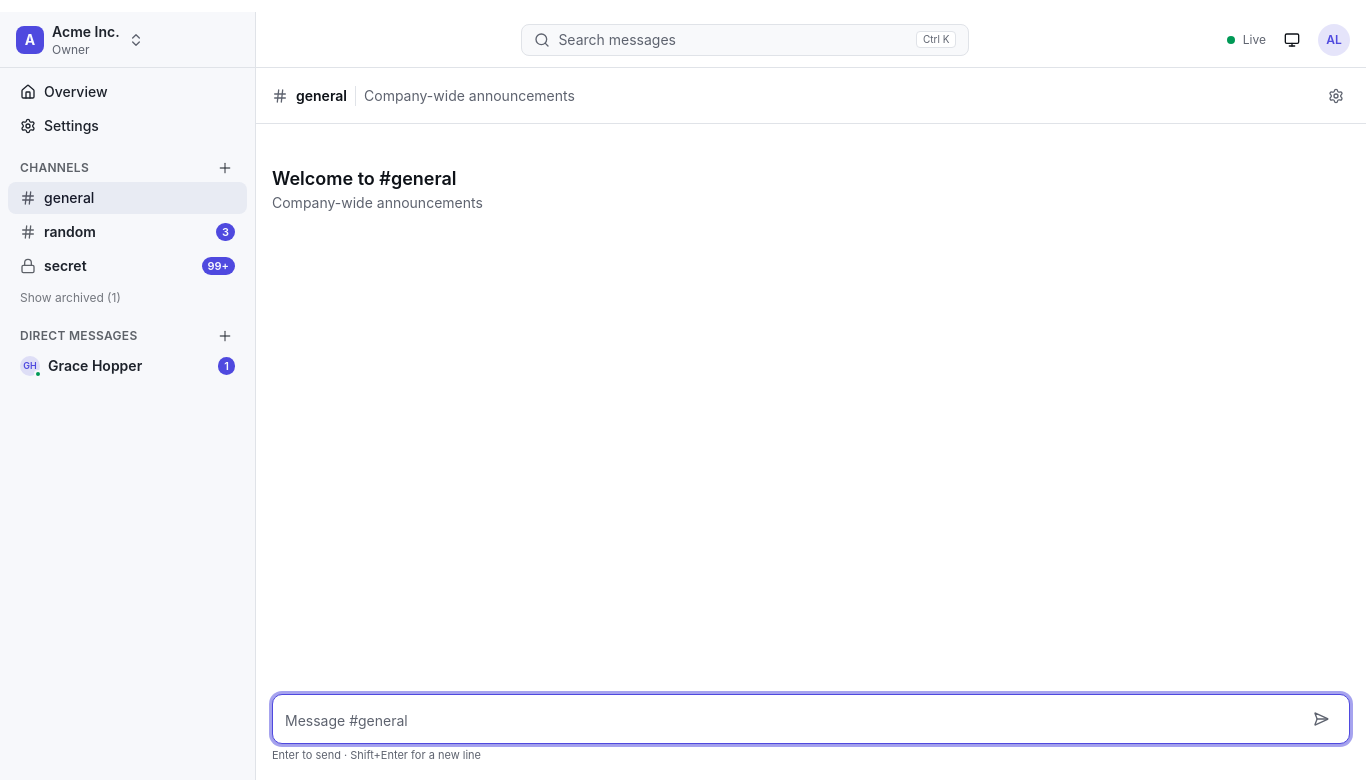
Test: chat navigation and sidebar › lists channels and DMs with private markers, capped unread badges and presence
Expected: the text "3" is shown, [216,223,235,241]
Expected: the text "99+" is shown, [202,257,235,275]
Click the link "random 3" at (70, 232), box [20,223,235,241]
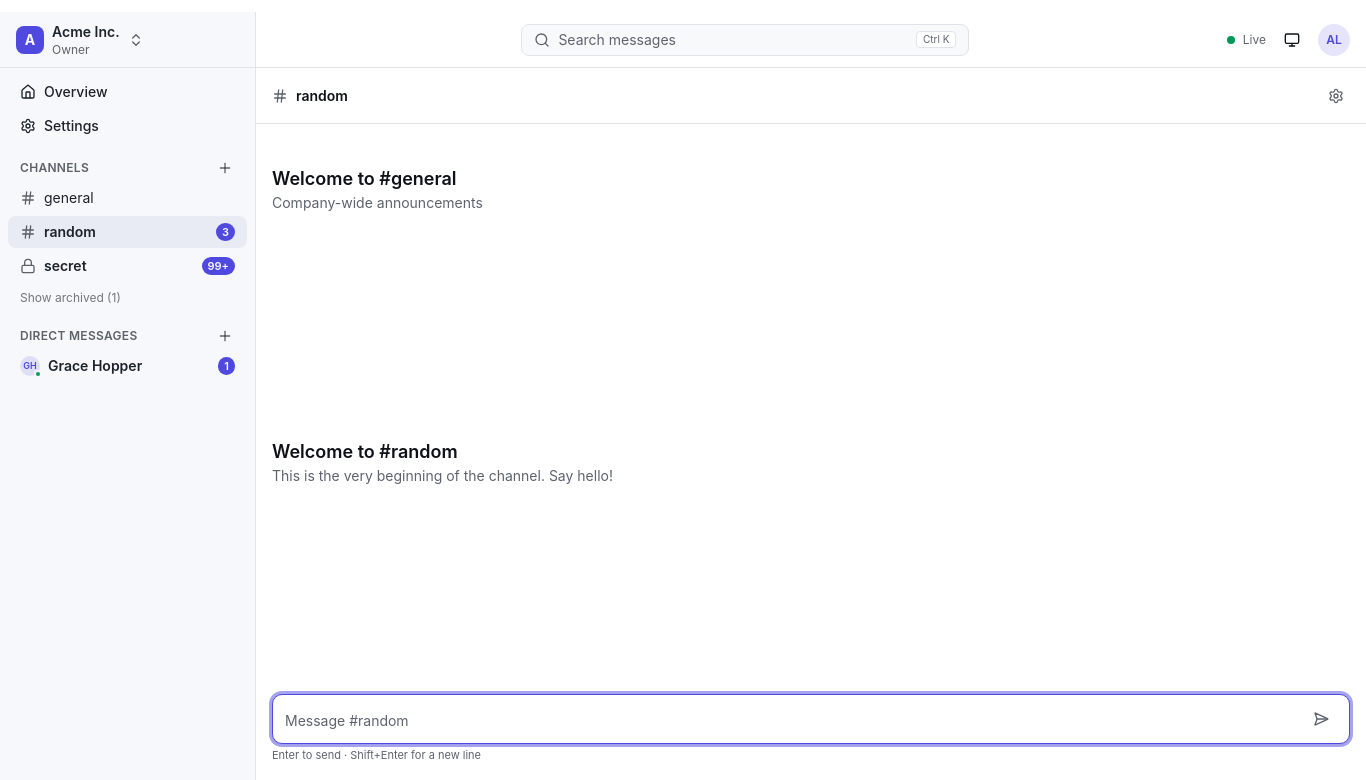
Expected: the heading "random" is shown, [296,86,348,106]
